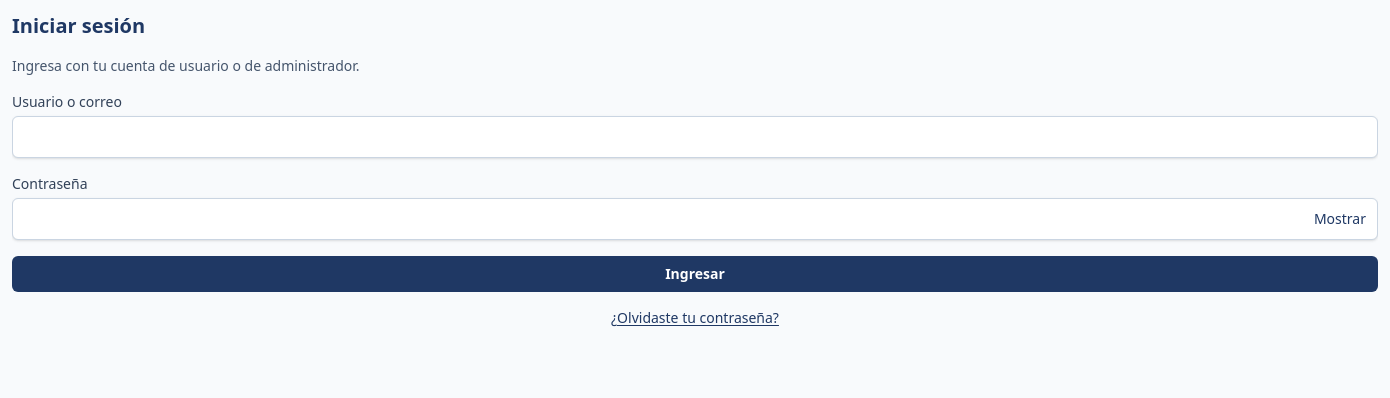
Test: login compartido › muestra el error de credenciales y no guarda sesión
This screenshot has width=1390, height=398.
Type "x" into the field labelled "Usuario o correo". click: (695, 137)
box: left=12, top=116, right=1378, bottom=158
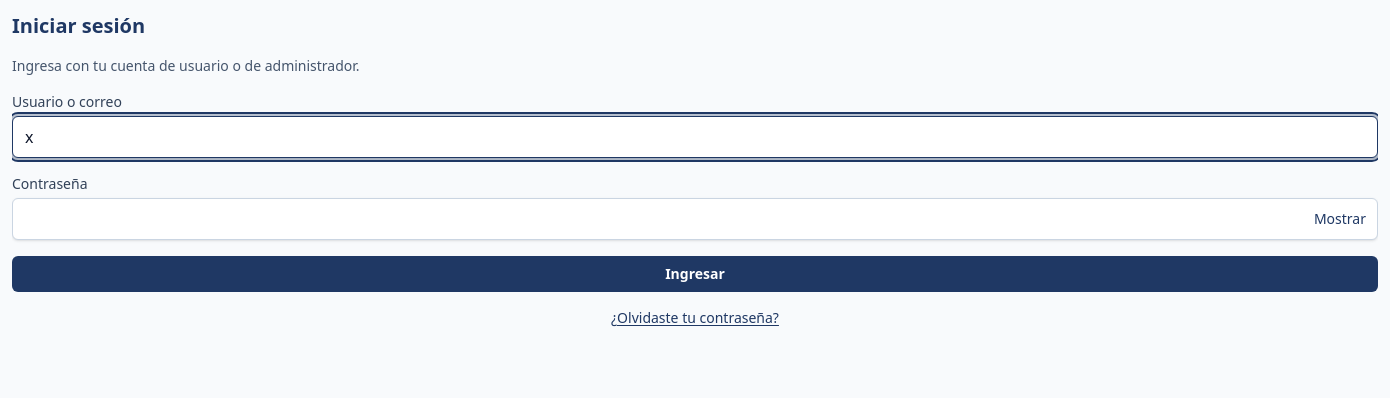
Type "y" into the password field labelled "Contraseña". click: (695, 219)
box: left=12, top=198, right=1378, bottom=240
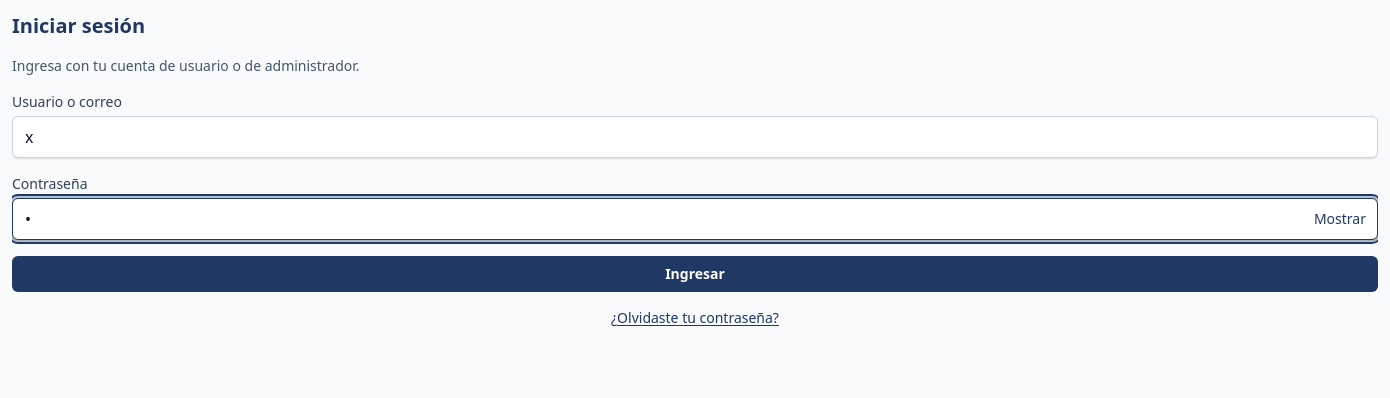
Click the button "Ingresar". click: (695, 274)
box: left=12, top=256, right=1378, bottom=292
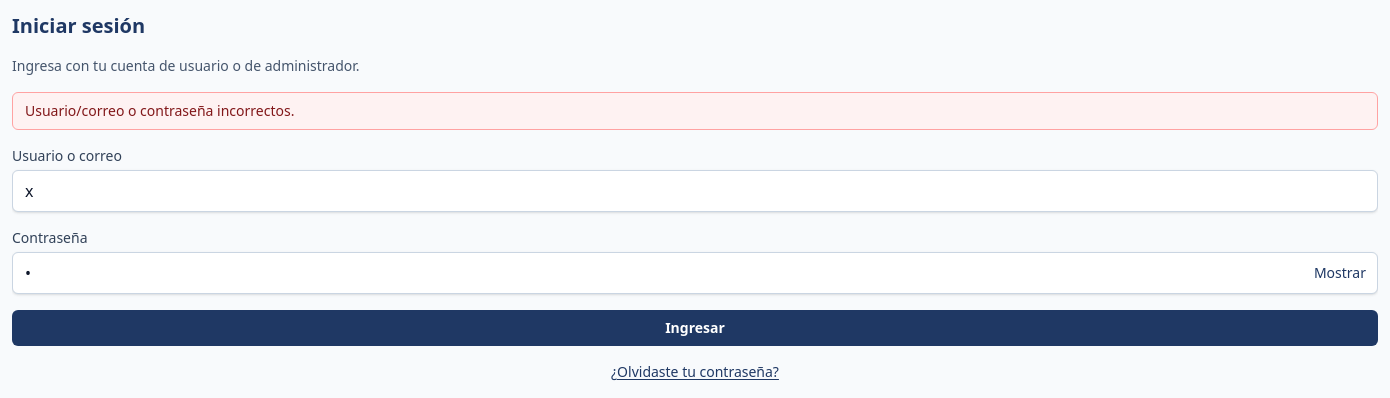
Result: the message reads "Usuario/correo o contraseña incorrectos." at left=25, top=101, right=294, bottom=120
